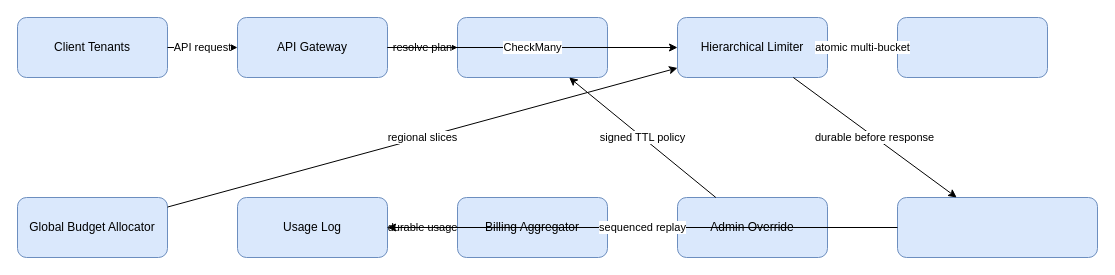
The diagram is 1115 pixels wide and 275 high, and some of its shapes have lost their labels. The shapes that lost their labels are listed below. From the top down, each one's centre as x and y in pixels, then its label:
At [532,47]: "Policy Cache".
At [972,47]: "Regional Bucket Store".
At [997,227]: "Replicated Decision WAL/Outbox".
